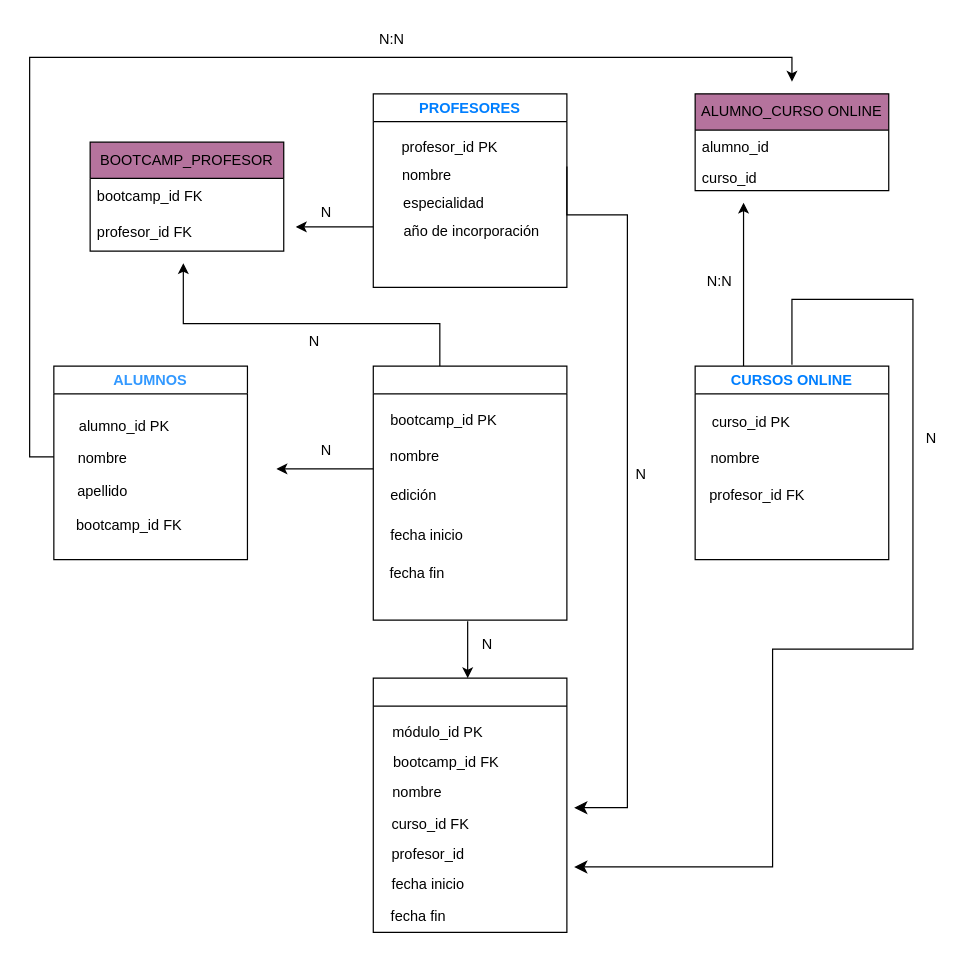
Some shapes in this 970 by 955 pixel diagram are drawn without their labels. Here are the shapes that lost their labels. From the top down, the box of each, then its label:
(372, 365, 567, 620): BOOTCAMPS
(372, 677, 567, 932): MÓDULOS
